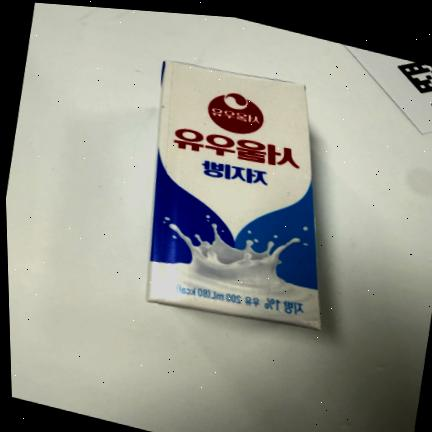milk_blue: (147, 61, 321, 330)
